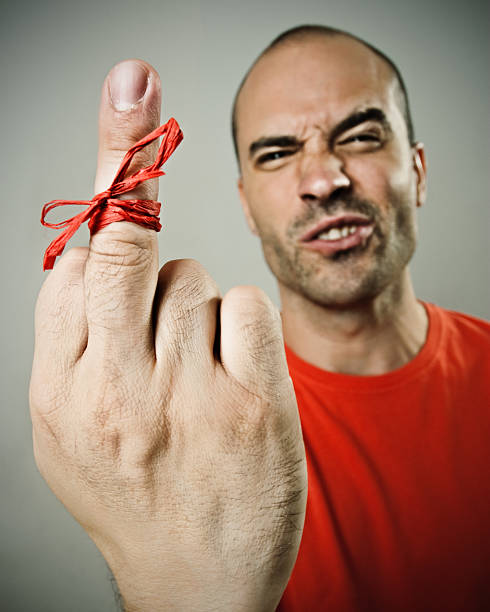insulting_gesture: (28, 54, 306, 612)
